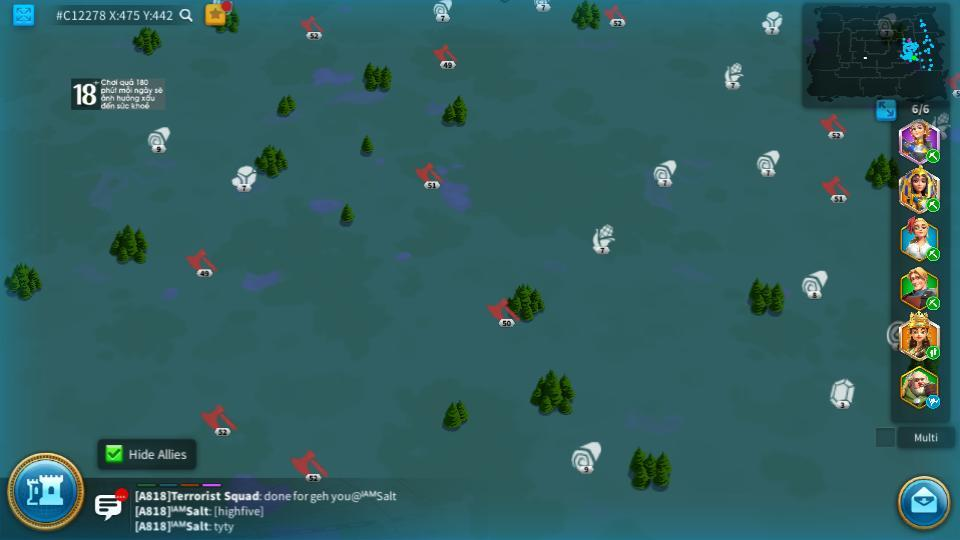gem-z-out: (830, 378, 856, 407)
march_farming: (925, 197, 941, 212)
march_idle: (925, 396, 942, 408)
march_marching: (925, 150, 942, 162), (925, 346, 941, 358), (925, 297, 942, 308)
